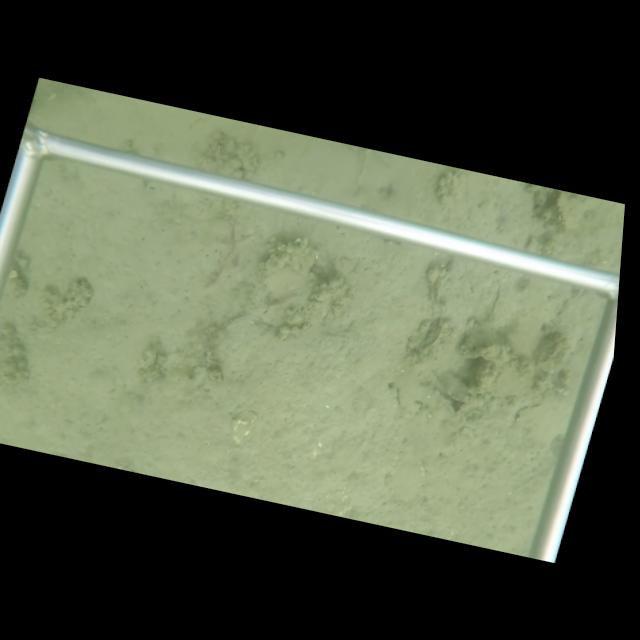Oyster-Closed: (420, 316, 445, 351)
Oyster-Indeterminate: (256, 239, 323, 302)
